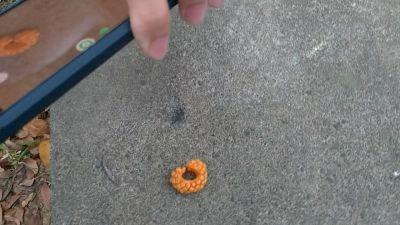eggs: (168, 159, 210, 195)
